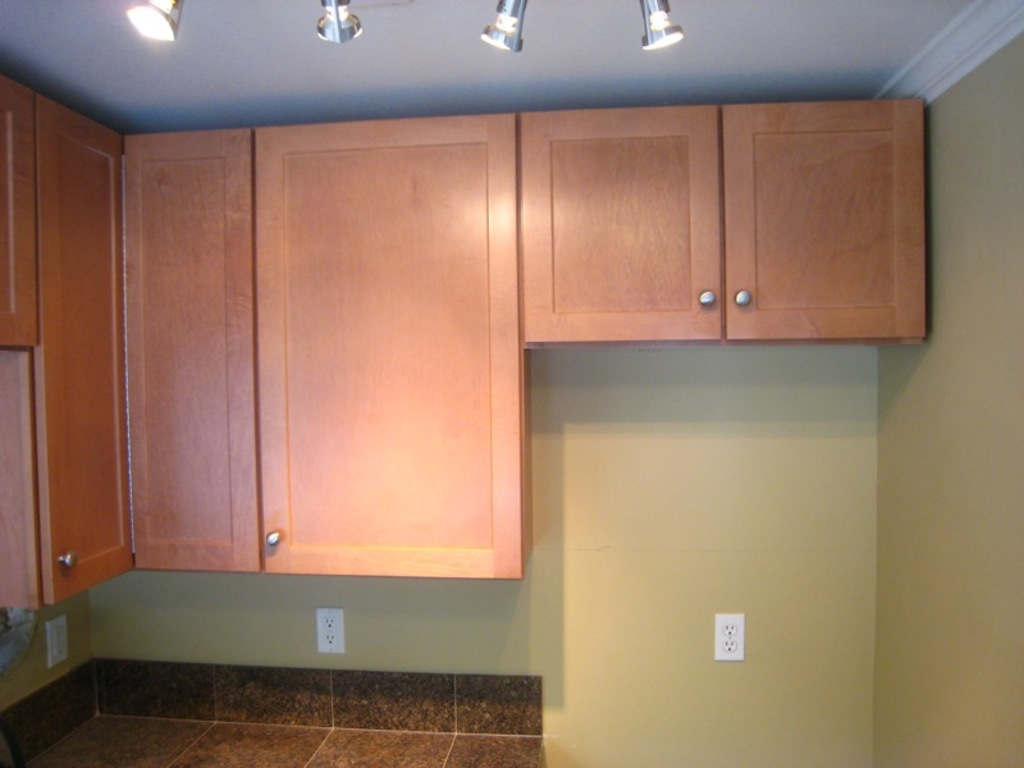cabinet door: (255, 138, 515, 577), (722, 102, 930, 335), (34, 109, 123, 573), (524, 124, 721, 333)
handle: (260, 515, 290, 553), (692, 279, 722, 315), (51, 542, 77, 583), (729, 279, 755, 318)
